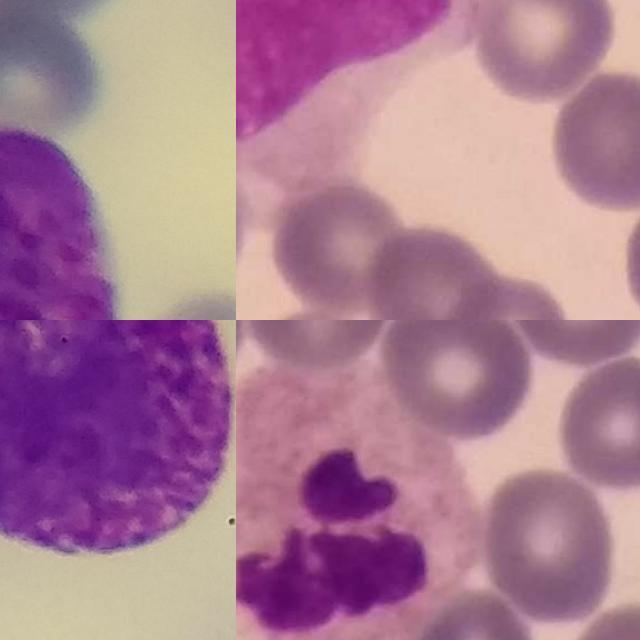Basophil: (0, 320, 236, 558), (0, 119, 121, 320)
Monocyte: (236, 0, 495, 198)
Neutrophil: (236, 365, 479, 640)
